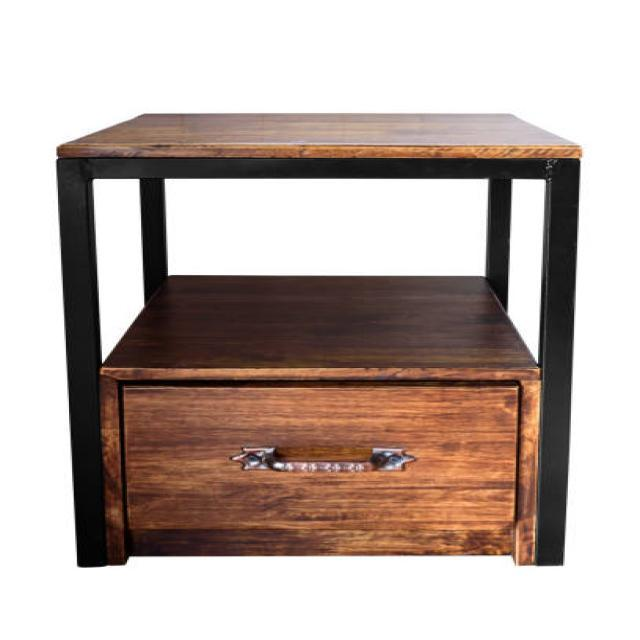table: (55, 112, 582, 567)
